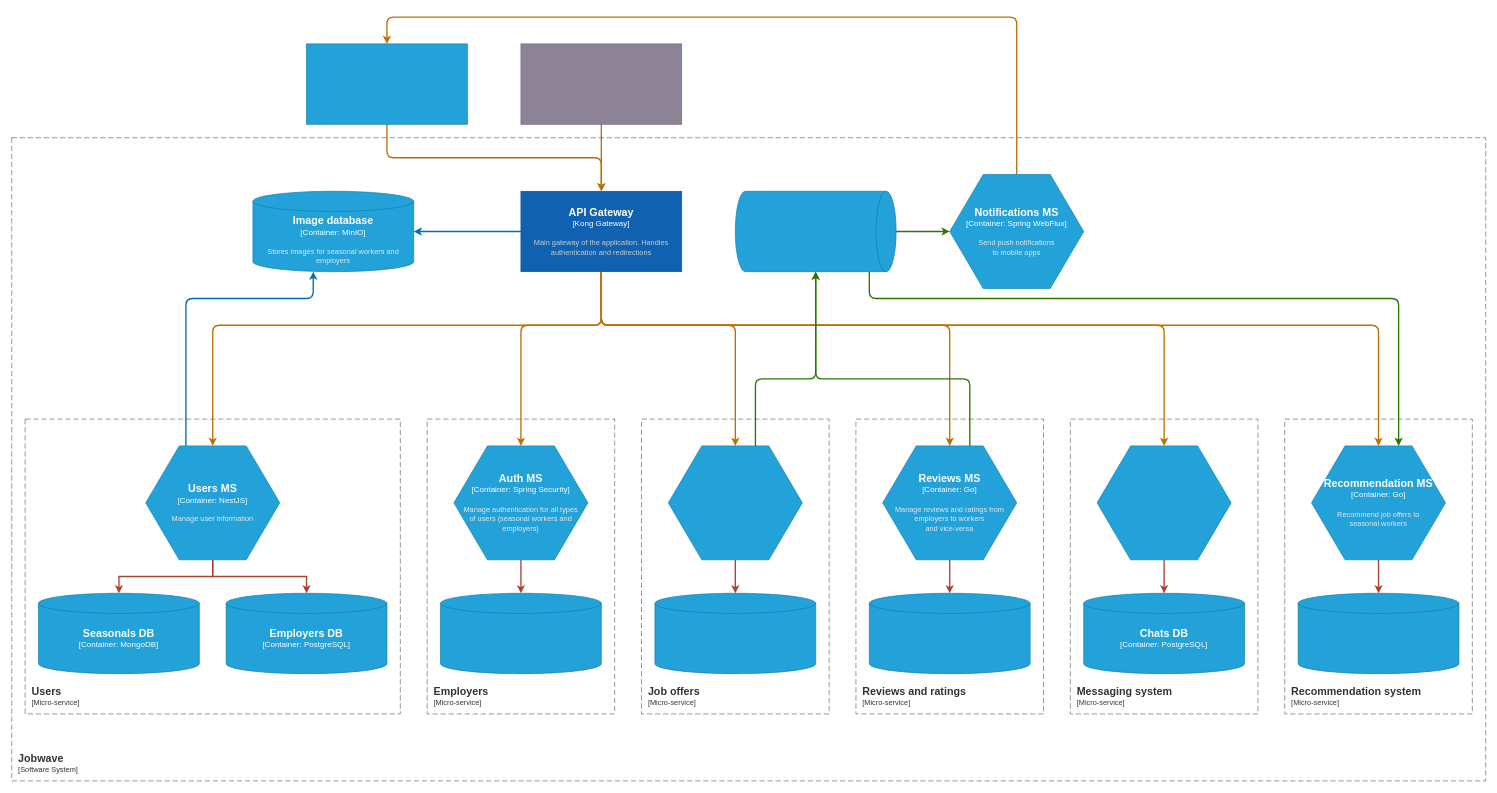
Some shapes in this 1497 by 793 pixel diagram are drawn without their labels. The centre of each missing label's shape, as x and y in pixels:
Auth DB [Container: PostgreSQL]: (520,633)
Chats MS [Container: Go] Manage conversations between employers and workers: (1163,502)
Employer Software [External system] Allows employers to use the service API: (601,83)
Message broker [Container: Apache Kafka] Micro-services communication: (815,231)
Mobile App [Component: React Native] Provides an endpoint for seasonal workers: (386,83)
Offers DB [Container: PostgreSQL]: (735,633)
Offers MS [Container: Kotlin] Manage job offers and applications: (735,502)
R&R DB [Container: PostgreSQL]: (949,633)
Recommendation DB [Container: PostgreSQL]: (1378,633)
